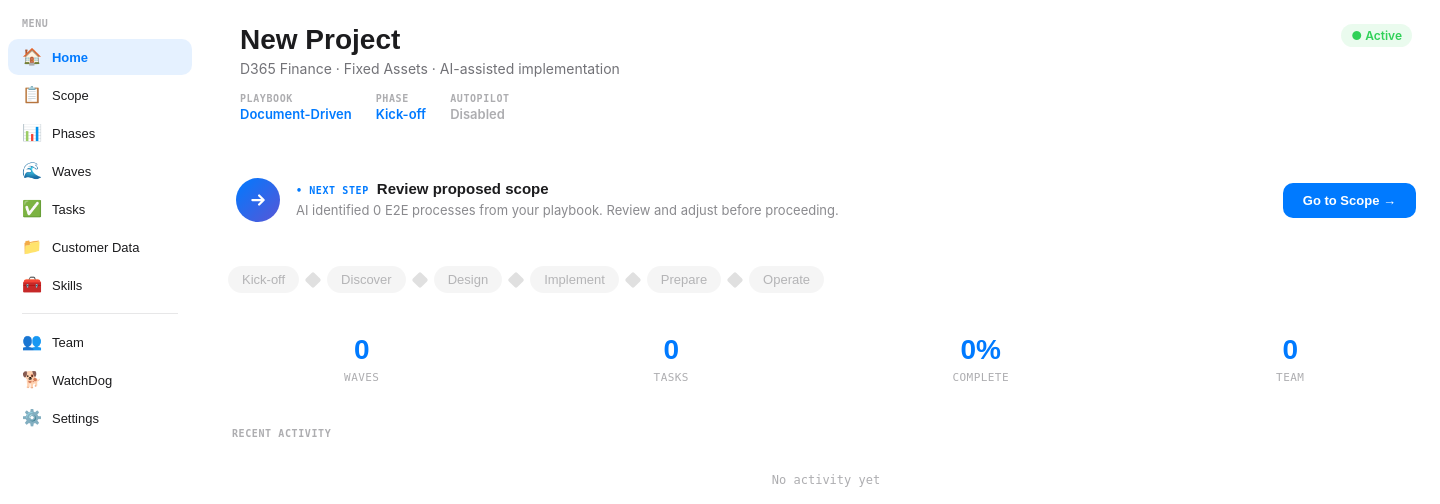
Test case: DashboardContent › navigates to process page via sidebar
This screenshot has width=1440, height=504.
What coordinates should you click on to do the following:
click the button with test id "sidebar-nav-process"
I would click on:
 (100, 95)
Its box is [8,77,192,113].
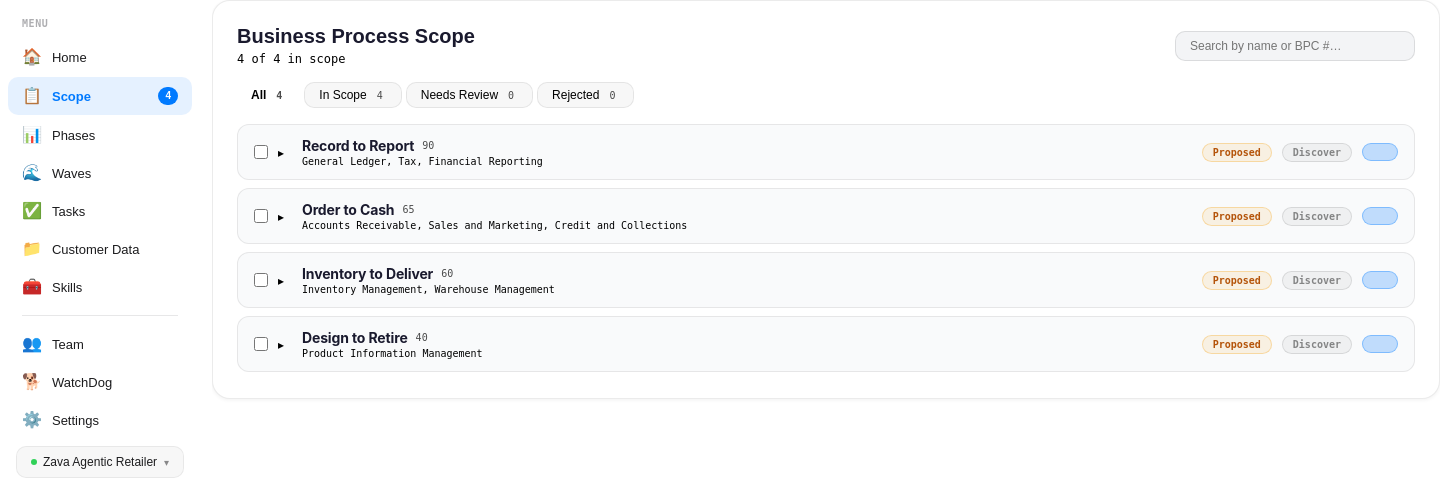
Expected: the element with test id "process-page" is shown
